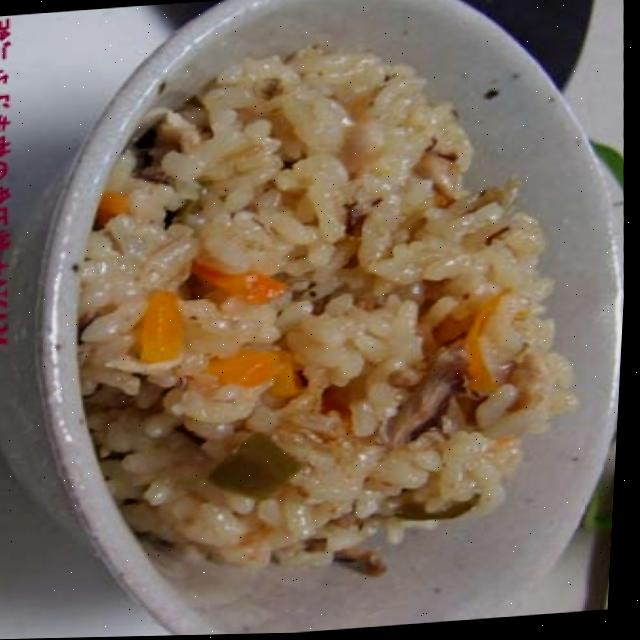米饭主食: (66, 35, 606, 586)
